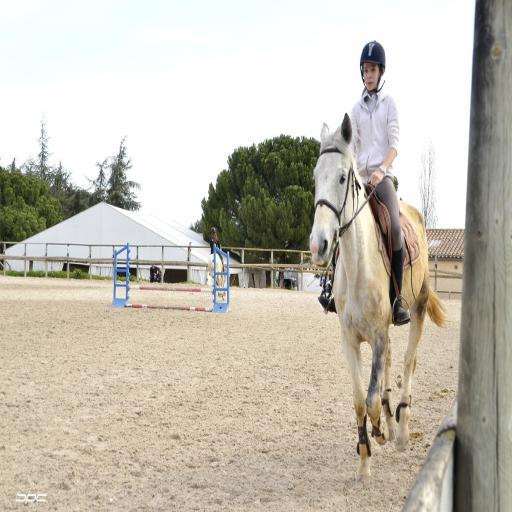Horse: (307, 112, 448, 486)
